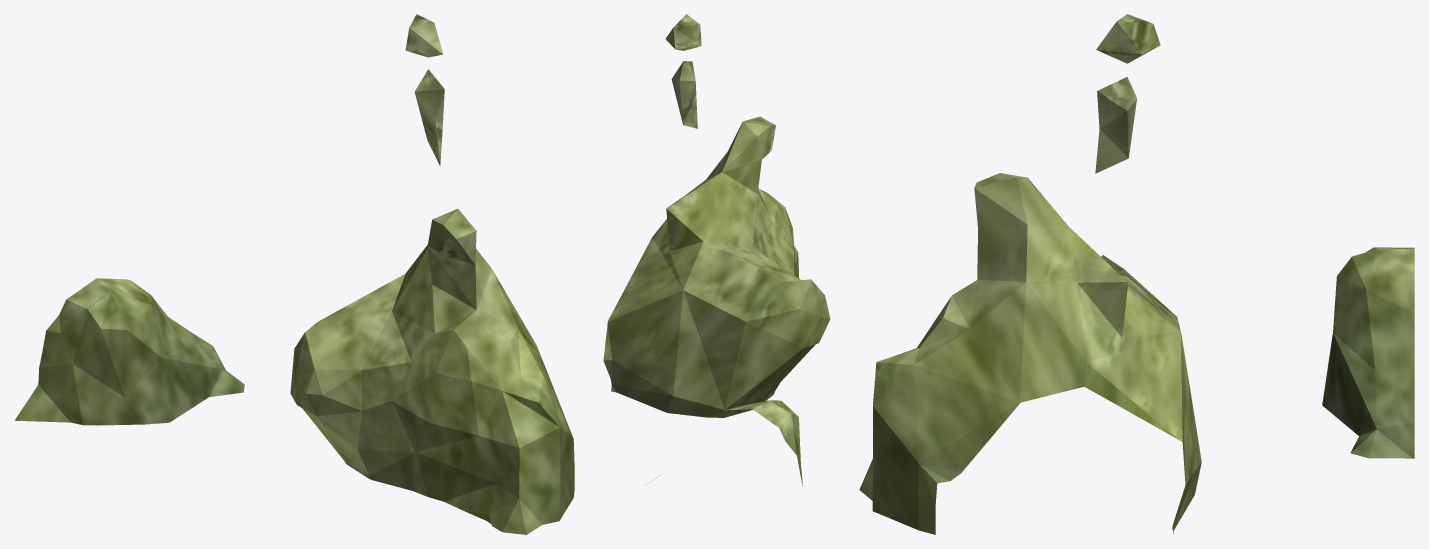
3 views of the same model, side by side, from view 1: azimuth 30°, elevation 25°; view 2: azimuth 150°, elevation 25°; view 3: azimuth 270°, elevation 25° (orthographic). The views are drawn at different scales.
Size of the model in its own units: 1.41 by 1.64 by 1.72.
Materials: 1 (1 with a texture image).
